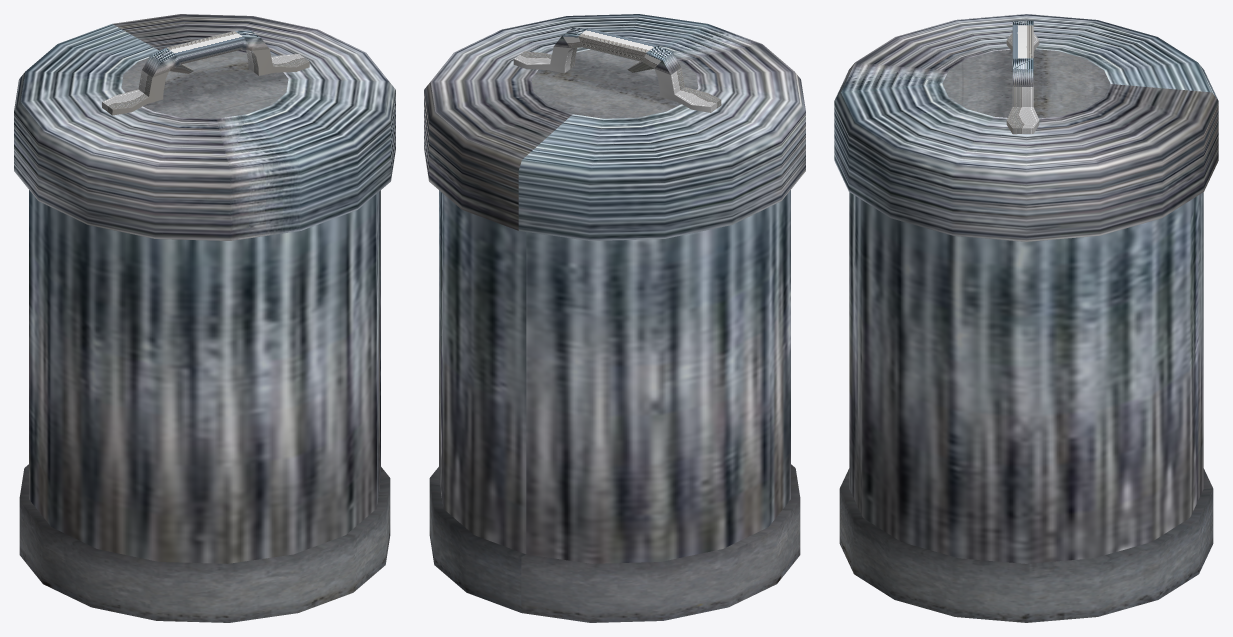
Rendered from lixo.fbx.
3 views of the same model, side by side, from view 1: azimuth 30°, elevation 25°; view 2: azimuth 150°, elevation 25°; view 3: azimuth 270°, elevation 25° (orthographic).
Visible parts, largest first — view 1: lixo; view 2: lixo; view 3: lixo.
Boxes of the visible parts, x1=… form: lixo: x1=14, y1=14, x2=395, y2=622; lixo: x1=424, y1=14, x2=805, y2=622; lixo: x1=834, y1=14, x2=1218, y2=622.
Bounding box in the file's own units: 0.6825 × 0.9834 × 0.6825.
